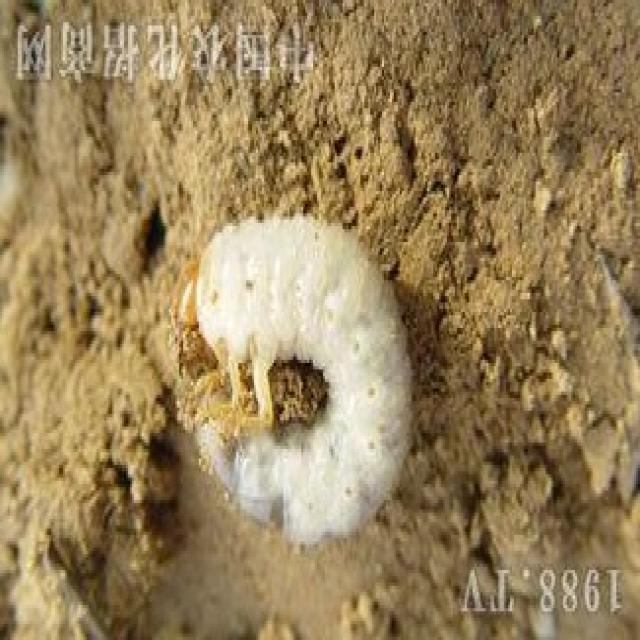grub: (182, 221, 415, 539)
